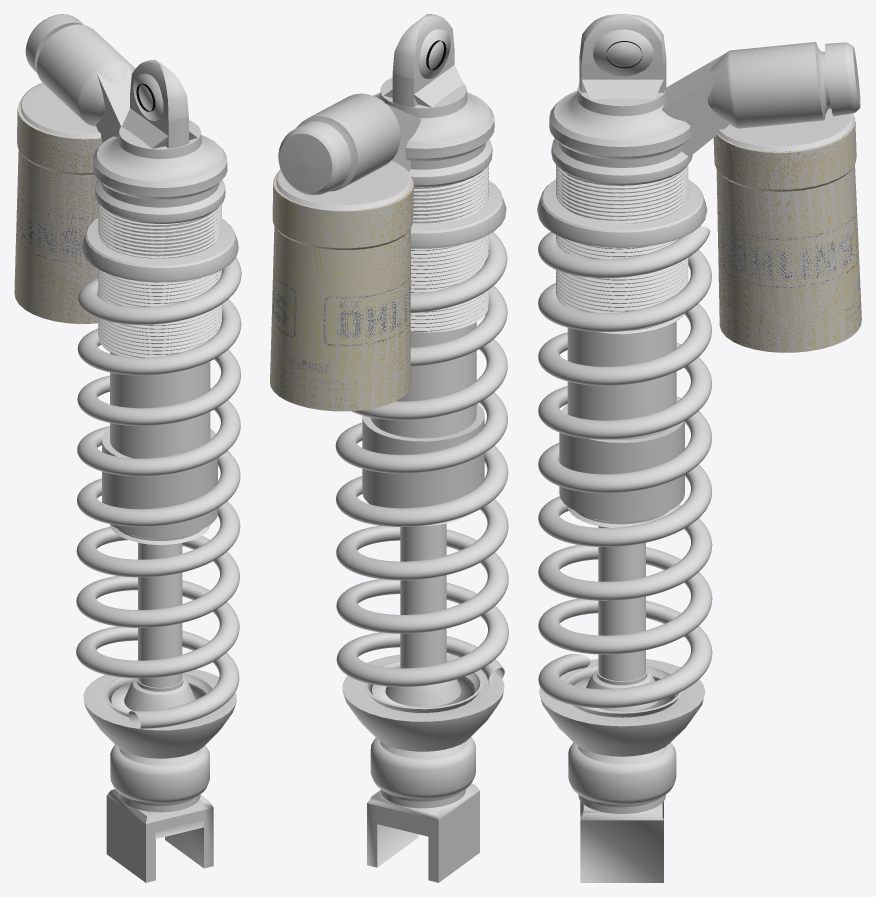
File: 1try.fbx
3 views of the same model, side by side, from view 1: azimuth 30°, elevation 25°; view 2: azimuth 150°, elevation 25°; view 3: azimuth 270°, elevation 25° (orthographic). The views are drawn at different scales.
Visible parts, largest first — view 1: spring.001, shock.001, baso.003, Cube.002, upper scre.001, stud2.001, shock.005, BLCK.002, baso.004, stud.001, blck33.001, bottom screw.001 (+5 smaller); view 2: spring.001, baso.003, shock.001, baso.004, shock.005, BLCK.002, Cube.002, stud2.001, upper scre.001, stud.001, blck33.001, Cube.003 (+5 smaller); view 3: spring.001, baso.003, shock.001, Cube.002, baso.004, stud2.001, BLCK.002, upper scre.001, shock.005, bottom screw.001, stud.001, blck33.001 (+5 smaller).
Boxes of the visible parts, x1,y1,x2,y2 form: spring.001: [76, 257, 241, 728]; shock.001: [81, 120, 238, 812]; baso.003: [14, 98, 102, 323]; Cube.002: [37, 24, 135, 142]; upper scre.001: [98, 269, 221, 357]; stud2.001: [110, 352, 210, 458]; shock.005: [106, 789, 213, 882]; BLCK.002: [102, 439, 217, 536]; baso.004: [15, 100, 101, 323]; stud.001: [138, 542, 182, 687]; blck33.001: [110, 745, 209, 803]; bottom screw.001: [98, 203, 221, 258]; spring.001: [335, 232, 508, 686]; baso.003: [270, 172, 413, 411]; shock.001: [342, 77, 506, 808]; baso.004: [270, 176, 413, 410]; shock.005: [367, 784, 479, 882]; BLCK.002: [362, 416, 484, 508]; Cube.002: [296, 93, 421, 191]; stud2.001: [370, 322, 476, 438]; upper scre.001: [410, 234, 488, 332]; stud.001: [400, 523, 446, 668]; blck33.001: [370, 737, 475, 798]; Cube.003: [278, 121, 350, 195]; spring.001: [538, 226, 712, 708]; baso.003: [713, 113, 861, 352]; shock.001: [537, 84, 707, 813]; Cube.002: [661, 42, 831, 157]; baso.004: [714, 118, 861, 352]; stud2.001: [567, 321, 676, 439]; BLCK.002: [559, 421, 684, 519]; upper scre.001: [556, 234, 688, 334]; shock.005: [580, 801, 663, 882]; bottom screw.001: [556, 165, 688, 223]; stud.001: [598, 526, 645, 681]; blck33.001: [568, 742, 676, 804].
Bounding box in the file's own units: 113 × 599 × 207.
